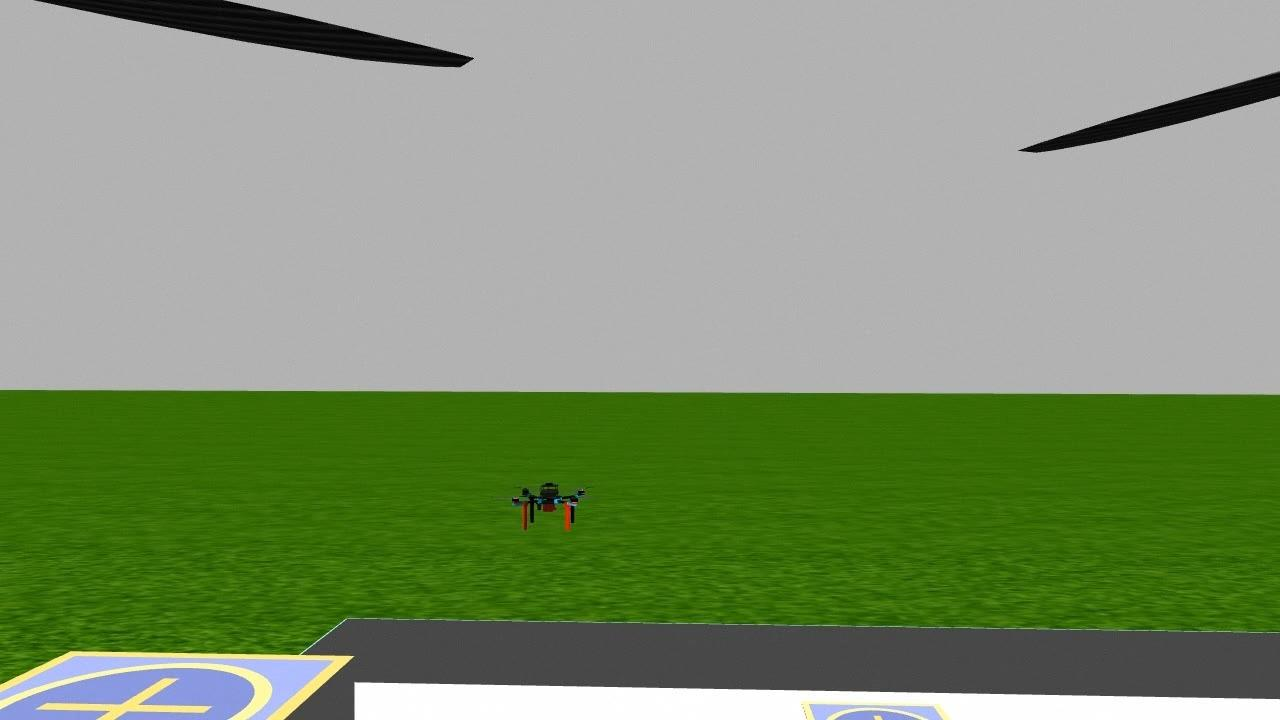UAV: (501, 461, 597, 542)
